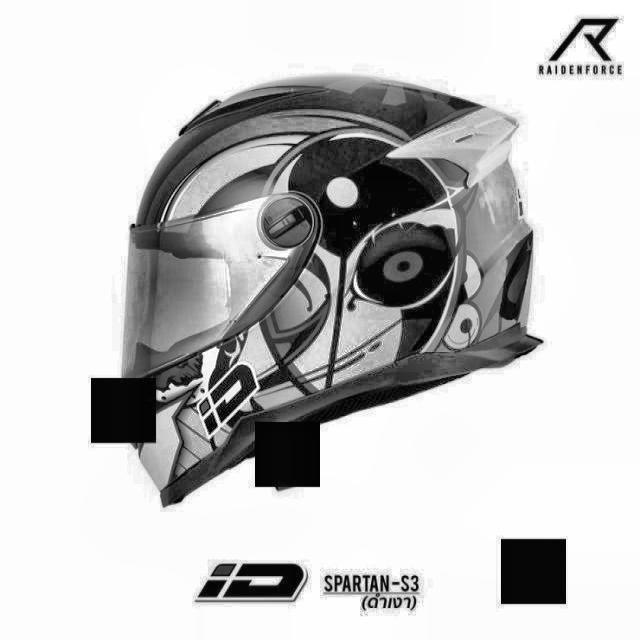Helmet: (112, 72, 564, 510)
